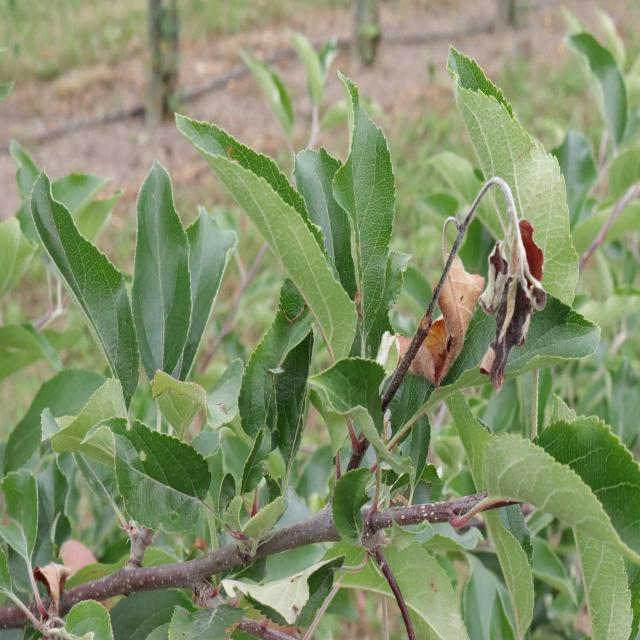-FireBlight-: (382, 172, 545, 380)
